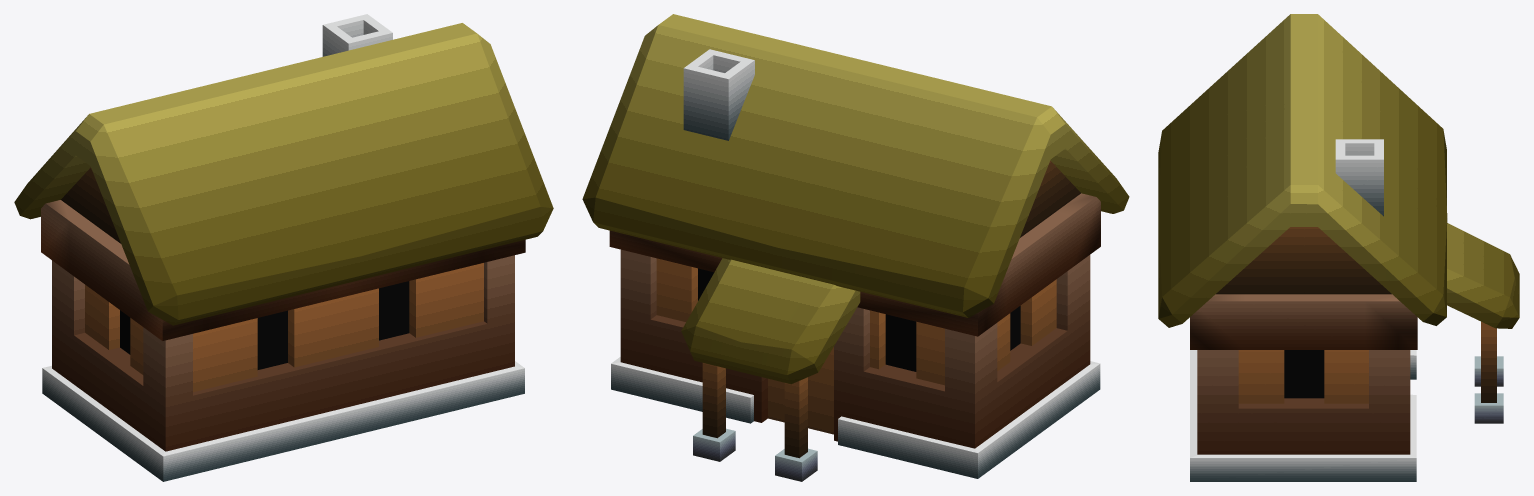
Rendered from farm_house_lvl3.fbx.
3 renders of one model, left to right at view 1: azimuth 30°, elevation 25°; view 2: azimuth 150°, elevation 25°; view 3: azimuth 270°, elevation 25°, orthographic. The views are drawn at different scales.
Visible parts, largest first — view 1: farm_house_lvl3; view 2: farm_house_lvl3; view 3: farm_house_lvl3.
Boxes of the visible parts, left/top/right/bottom form: farm_house_lvl3: left=14, top=14, right=553, bottom=481; farm_house_lvl3: left=582, top=14, right=1129, bottom=481; farm_house_lvl3: left=1158, top=14, right=1519, bottom=481.
Size of the model in its own units: 1123 by 857 by 937.
